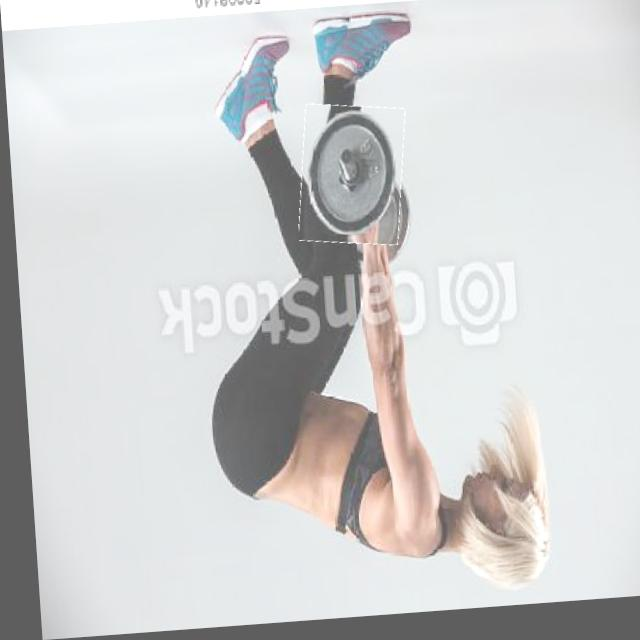barbell: (293, 107, 407, 254)
